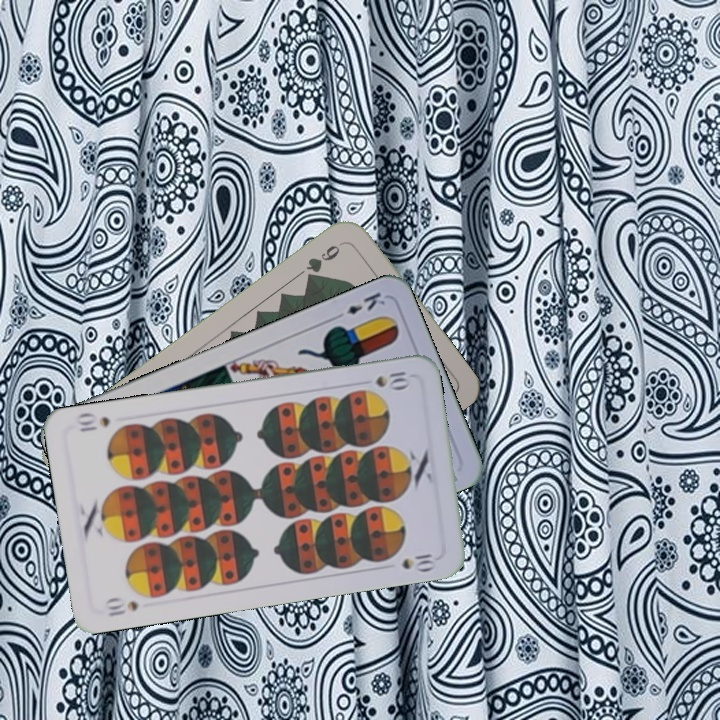EK: (330, 287, 388, 322)
G9: (302, 237, 347, 284)
S10: (101, 594, 140, 620), (371, 367, 412, 391)
